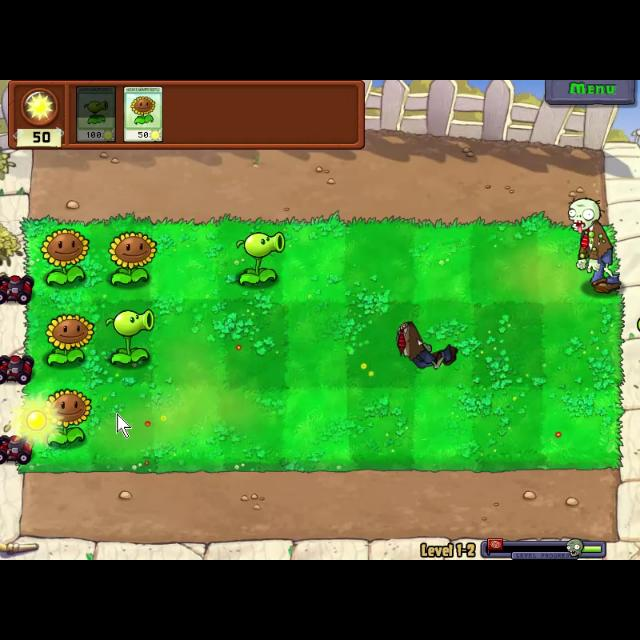Garden: (14, 215, 626, 473)
Menu Button: (542, 80, 636, 108)
Mower: (0, 273, 36, 307), (0, 354, 34, 386), (0, 432, 32, 466)
Peashooter: (74, 84, 118, 144)
Peashooter Seed: (100, 306, 162, 374), (232, 228, 290, 294)
Seed Panel: (8, 80, 366, 152)
Sun: (12, 399, 60, 443)
Sunflower: (124, 84, 164, 146)
Sunflower Seed: (30, 384, 91, 446), (100, 228, 162, 288), (37, 224, 91, 290), (42, 311, 92, 369)
Zombie: (566, 196, 628, 296)
